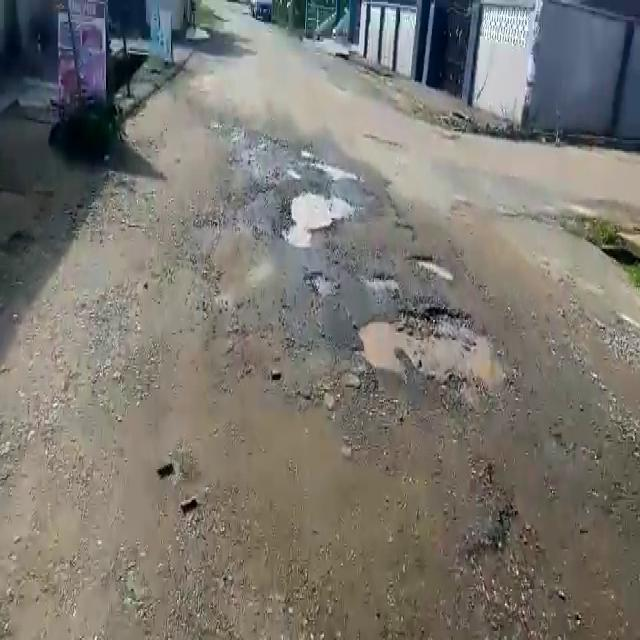pothole: (353, 303, 512, 392), (285, 188, 357, 249), (410, 252, 450, 281), (308, 270, 345, 298), (313, 161, 355, 181), (361, 273, 398, 292)
